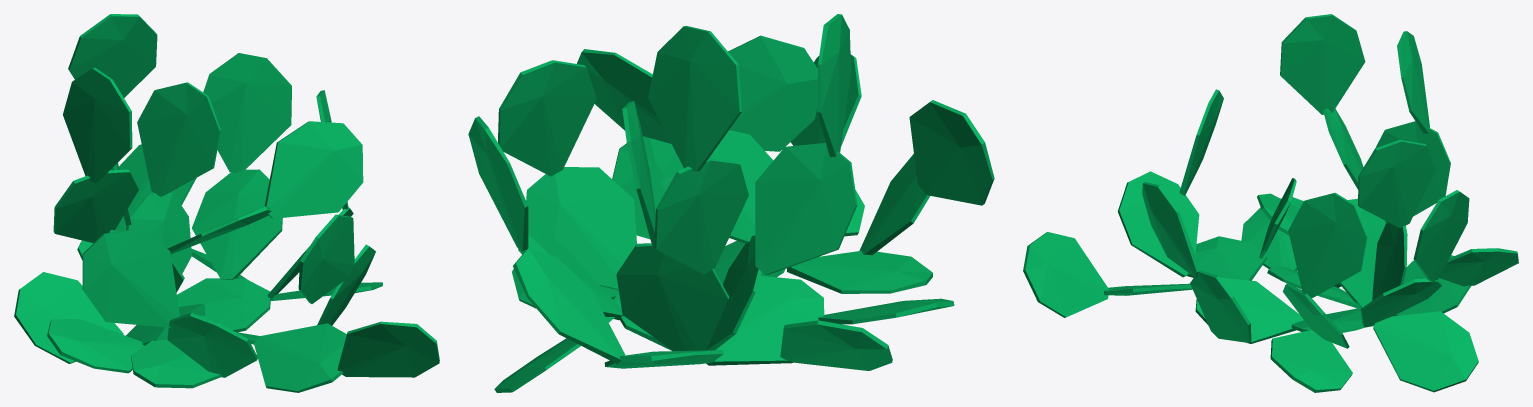
The model's file is PricklyPearCactus_LOD0.fbx.
3 views of the same model, side by side, from view 1: azimuth 30°, elevation 25°; view 2: azimuth 150°, elevation 25°; view 3: azimuth 270°, elevation 25° (orthographic). The views are drawn at different scales.
Parts seen in each view (by area): view 1: PricklyPearCactus_LOD0; view 2: PricklyPearCactus_LOD0; view 3: PricklyPearCactus_LOD0.
Part boxes in pixels (<box>): PricklyPearCactus_LOD0: <box>14,14,439,392</box>; PricklyPearCactus_LOD0: <box>468,14,994,392</box>; PricklyPearCactus_LOD0: <box>1023,14,1518,392</box>.
Bounding box in the file's own units: 174 × 114 × 129.
